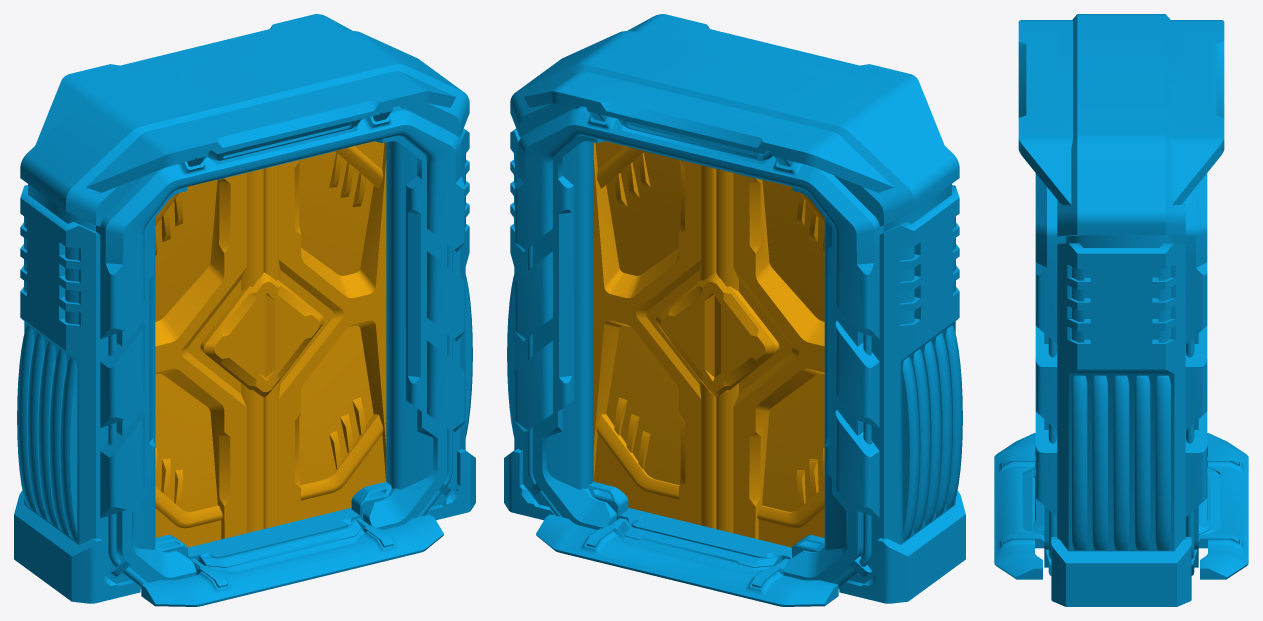
Rendered from Sci-fi New Door.fbx.
3 views of the same model, side by side, from view 1: azimuth 30°, elevation 25°; view 2: azimuth 150°, elevation 25°; view 3: azimuth 270°, elevation 25° (orthographic). The views are drawn at different scales.
Parts seen in each view (by area): view 1: Prtal Door, Right Door, Left Door; view 2: Prtal Door, Right Door, Left Door; view 3: Prtal Door.
Part boxes in pixels (<box>): Prtal Door: <box>14,14,475,606</box>; Right Door: <box>264,141,386,528</box>; Left Door: <box>155,168,266,547</box>; Prtal Door: <box>504,14,965,606</box>; Right Door: <box>593,141,715,528</box>; Left Door: <box>713,168,824,547</box>; Prtal Door: <box>994,14,1248,606</box>.
Size of the model in its own units: 282 by 300 by 158.
